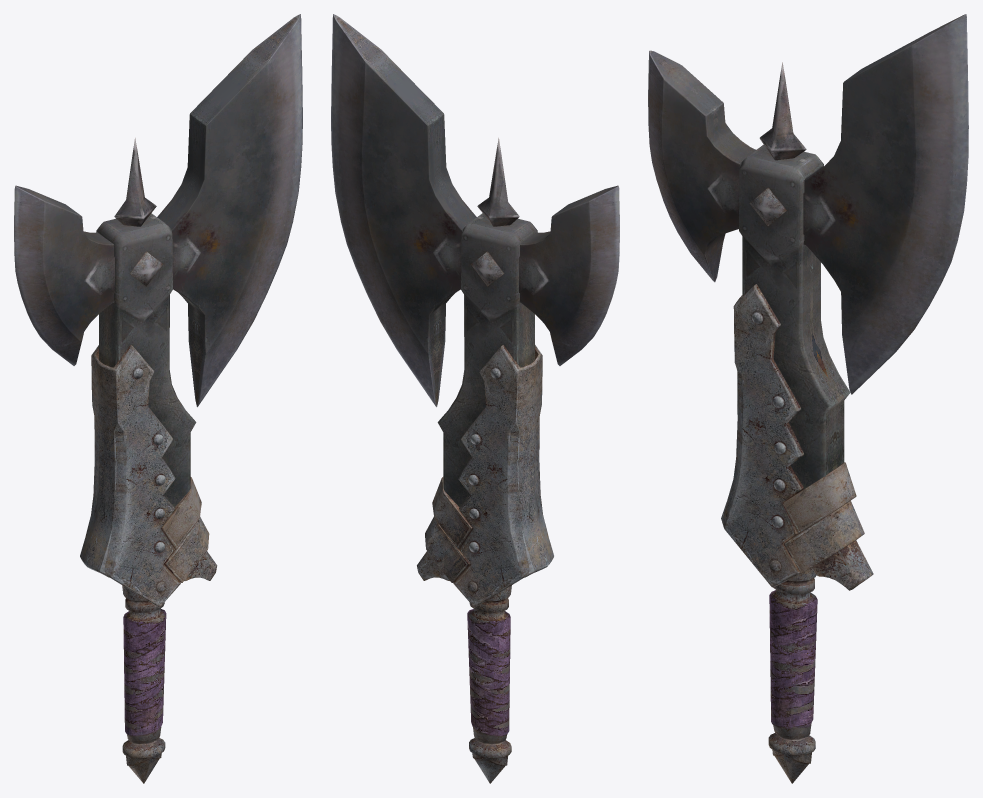
Rendered from bs_one003.obj.
The picture shows the model from 3 angles, left to right: view 1: azimuth 30°, elevation 25°; view 2: azimuth 150°, elevation 25°; view 3: azimuth 330°, elevation 25°; orthographic projection. The views are drawn at different scales.
Parts seen in each view (by area): view 1: bs_one003_000_LOD_1; view 2: bs_one003_000_LOD_1; view 3: bs_one003_000_LOD_1.
Part boxes in pixels (<box>): bs_one003_000_LOD_1: <box>14,14,302,783</box>; bs_one003_000_LOD_1: <box>331,14,619,783</box>; bs_one003_000_LOD_1: <box>648,14,968,783</box>.
Size of the model in its own units: 49.16 by 119 by 10.45.
